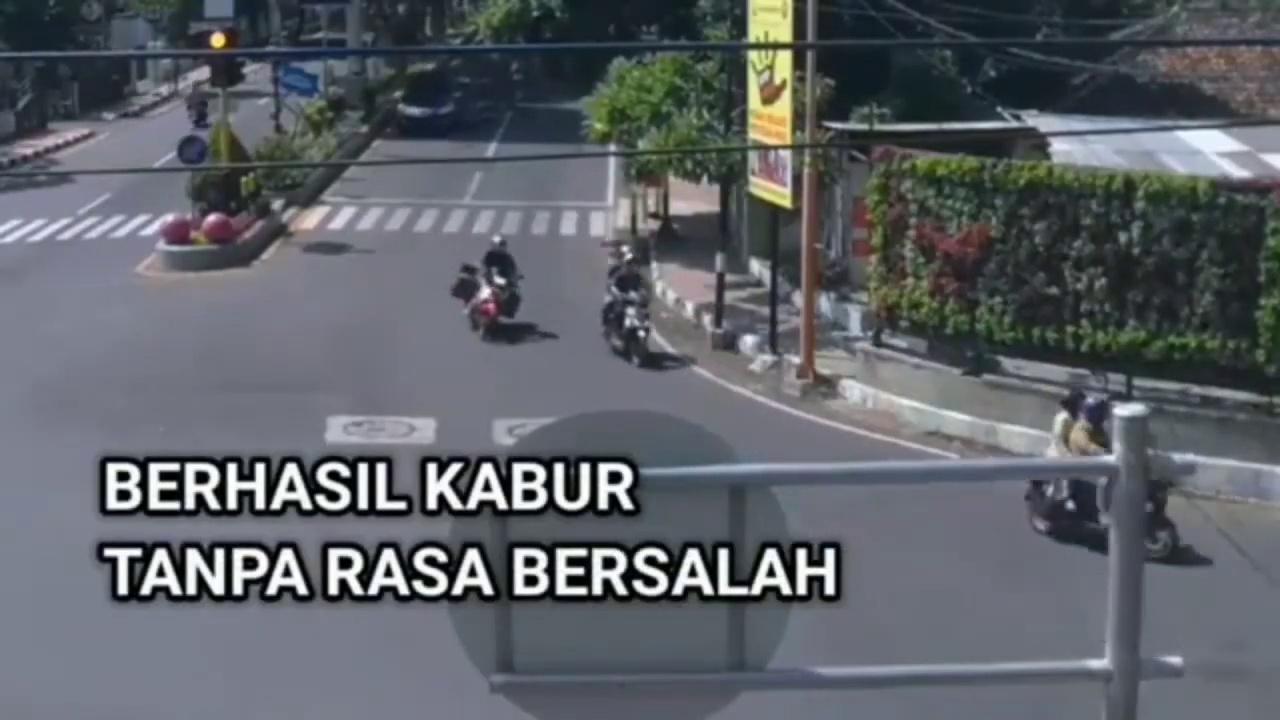motorbike: (1034, 384, 1178, 559), (456, 229, 524, 337), (596, 245, 648, 365)
